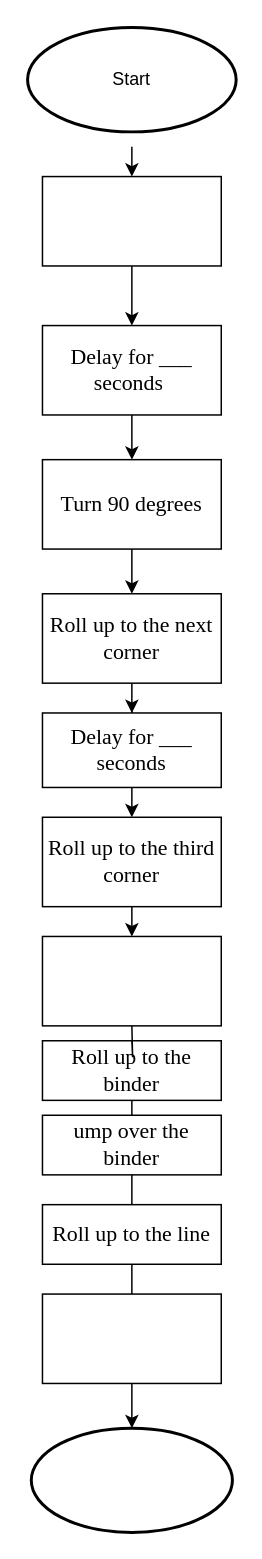
Some shapes in this 262 by 1559 pixel diagram are drawn without their labels. The shapes that lost their labels are listed below. From the top down, each one's centre as x and y in pixels, then its label:
At (x=131, y=220): "Roll up to the corner".
At (x=131, y=980): "Delay for __ seconds".
At (x=131, y=1338): "Knock down the pins at the end".
At (x=131, y=1479): "End".
